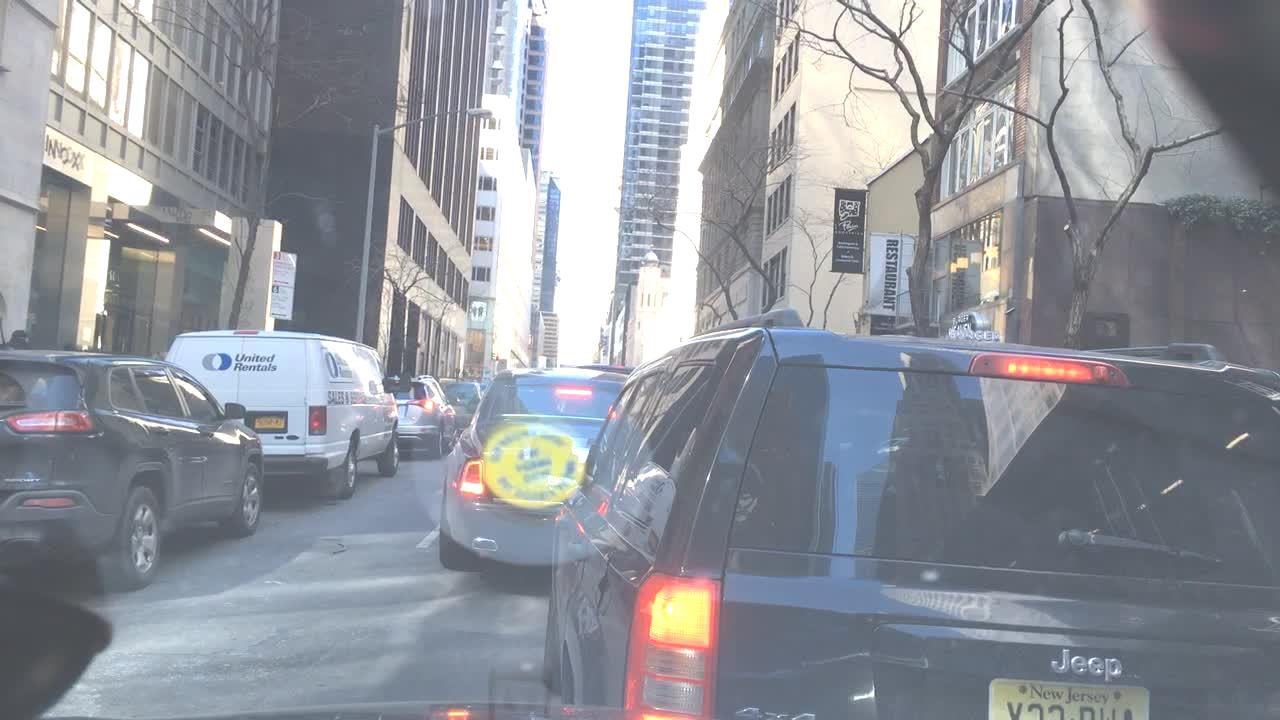jeep: (1049, 641, 1124, 680)
